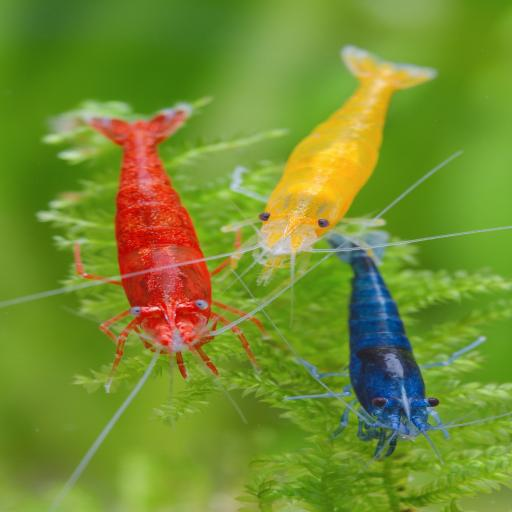Shrimp: (50, 89, 279, 384), (229, 46, 456, 274), (310, 227, 481, 467)
